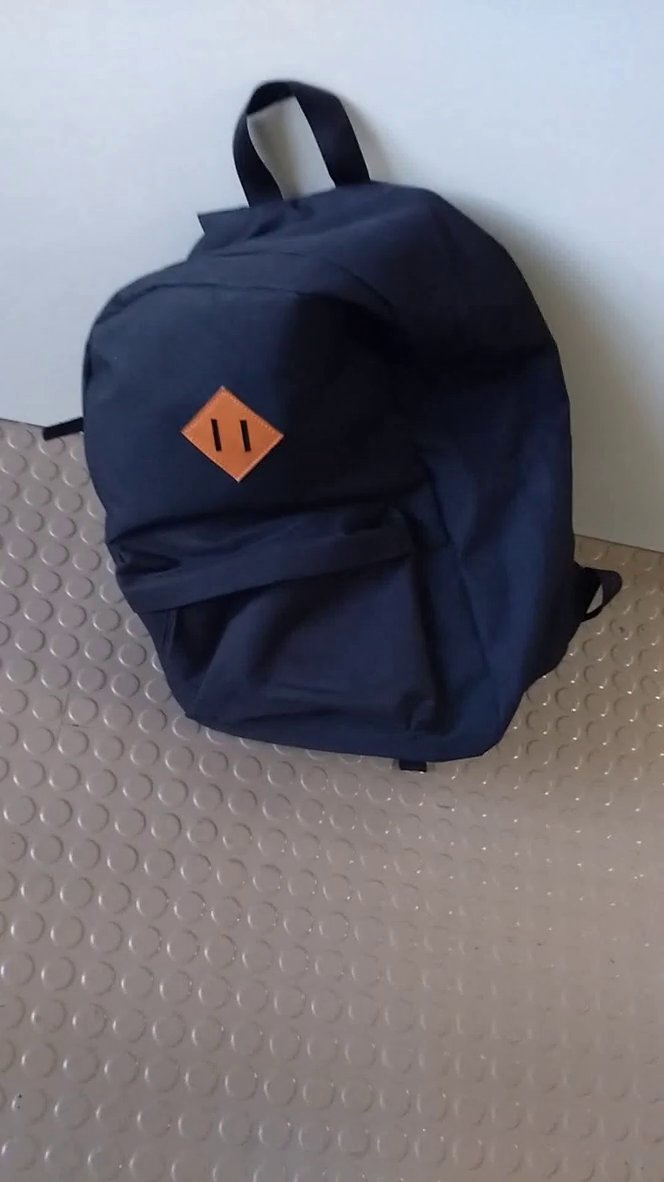bag: (27, 50, 626, 798)
